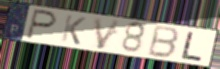8: (119, 21, 148, 55)
B: (146, 24, 182, 61)
K: (59, 13, 88, 47)
L: (179, 31, 204, 63)
P: (24, 8, 59, 42)
V: (92, 17, 123, 51)
